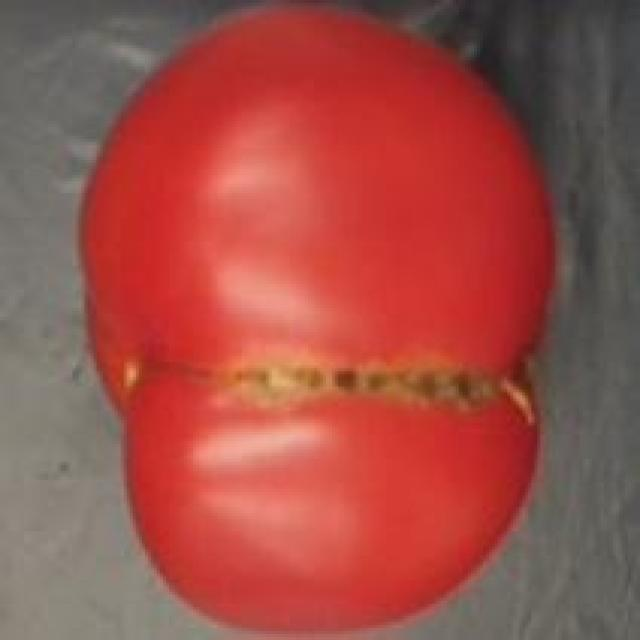overripe tomato: (76, 3, 562, 640)
